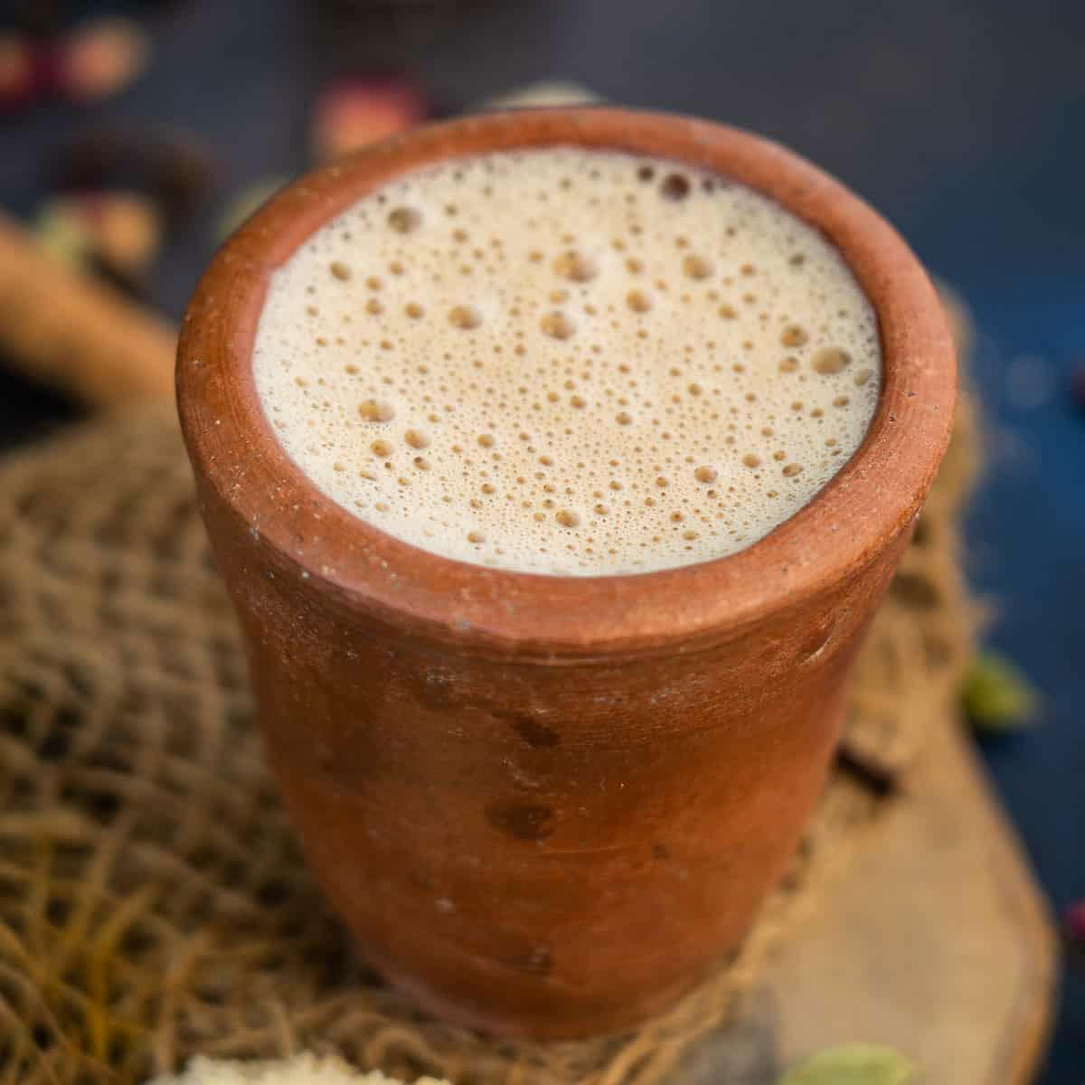Chai: (264, 152, 881, 567)
